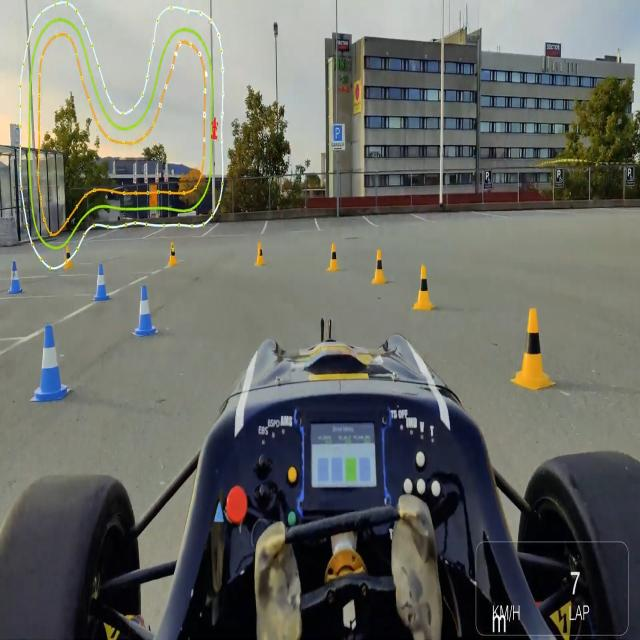blue_cone: (32, 320, 68, 401), (134, 284, 156, 338), (93, 264, 111, 302), (8, 258, 24, 295)
yellow_cone: (515, 310, 552, 390), (415, 262, 436, 310), (374, 248, 386, 284), (328, 242, 340, 272), (64, 244, 75, 272), (256, 239, 266, 267), (168, 240, 178, 268)
